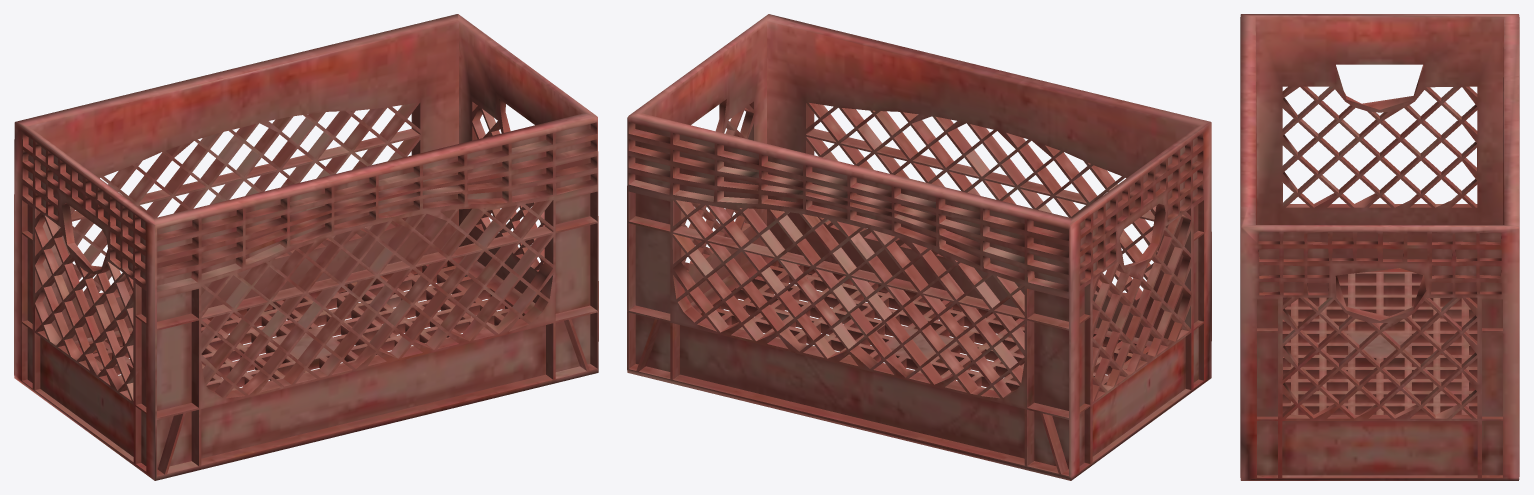
The model's file is plastic_crate_03.glb.
3 views of the same model, side by side, from view 1: azimuth 30°, elevation 25°; view 2: azimuth 150°, elevation 25°; view 3: azimuth 270°, elevation 25° (orthographic).
Parts seen in each view (by area): view 1: plastic_crate_03; view 2: plastic_crate_03; view 3: plastic_crate_03.
Part boxes in pixels (x1,y1,x2,y2): plastic_crate_03: (14,14,598,480); plastic_crate_03: (627,14,1211,480); plastic_crate_03: (1240,14,1519,480).
Bounding box in the file's own units: 0.4811 × 0.2652 × 0.265.
Materials: 1 (1 with a texture image).
